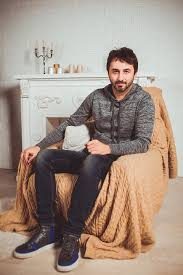sitting: (12, 37, 157, 274)
